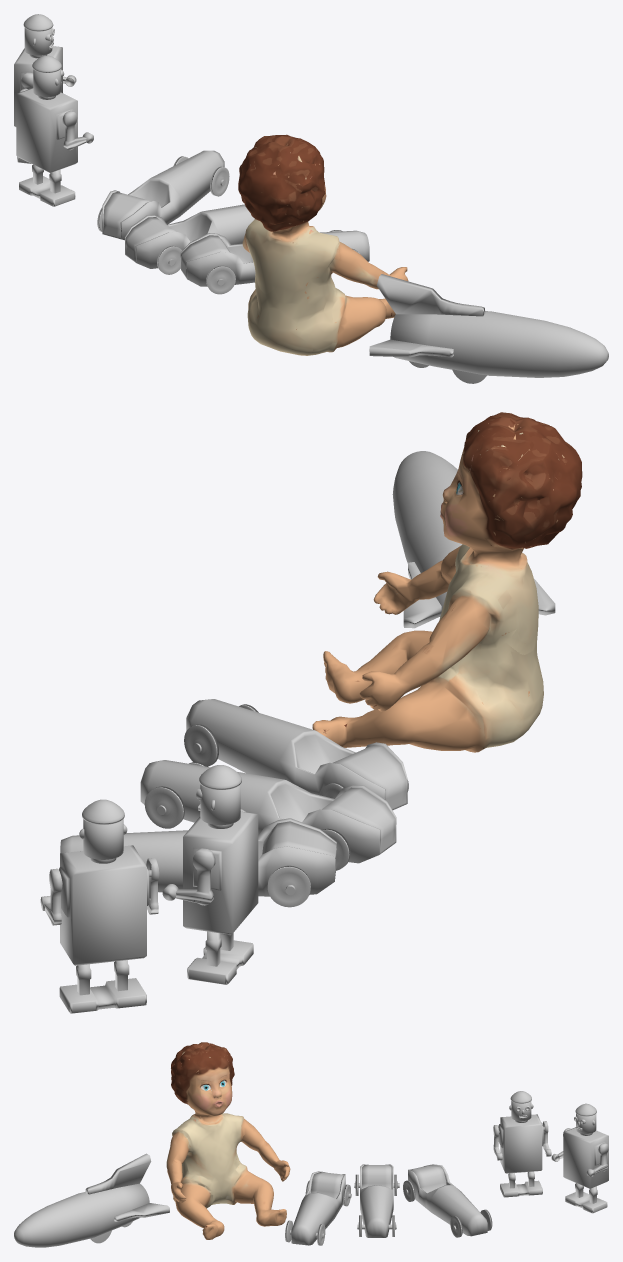
Rendered from juguetes.fbx.
3 views of the same model, one above another, from view 1: azimuth 30°, elevation 25°; view 2: azimuth 150°, elevation 25°; view 3: azimuth 270°, elevation 25° (orthographic). The views are drawn at different scales.
Parts seen in each view (by area): view 1: Icosphere, Nave, Cube.003, Cube.002, Cube, Cube.001, Cube.004, Cylinder, Cube.005, Cylinder.008, Cylinder.006, Cylinder.003 (+1 smaller); view 2: Icosphere, Cube.004, Cube.005, Cube, Cube.002, Cube.003, Nave, Cylinder.008, Cylinder, Cylinder.002, Cylinder.006, Cube.001 (+1 smaller); view 3: Icosphere, Nave, Cube.003, Cube.002, Cube.004, Cube.005, Cube, Cube.001, Cylinder.008, Cylinder, Cylinder.003, Cylinder.006 (+1 smaller).
Boxes of the visible parts, bbox=[...] form: Icosphere: bbox=[238, 134, 408, 355]; Nave: bbox=[390, 311, 608, 377]; Cube.003: bbox=[102, 150, 224, 240]; Cube.002: bbox=[16, 69, 77, 172]; Cube: bbox=[124, 204, 254, 268]; Cube.001: bbox=[369, 274, 485, 357]; Cube.004: bbox=[180, 230, 369, 286]; Cylinder: bbox=[19, 55, 93, 206]; Cube.005: bbox=[14, 28, 62, 126]; Cylinder.008: bbox=[17, 14, 76, 163]; Cylinder.006: bbox=[206, 230, 359, 294]; Cylinder.003: bbox=[97, 156, 229, 231]; Icosphere: bbox=[312, 412, 582, 752]; Cube.004: bbox=[186, 699, 407, 810]; Cube.005: bbox=[59, 819, 151, 965]; Cube: bbox=[140, 760, 396, 863]; Cube.002: bbox=[183, 784, 258, 934]; Cube.003: bbox=[60, 818, 336, 896]; Nave: bbox=[392, 451, 462, 611]; Cylinder.008: bbox=[40, 799, 159, 1013]; Cylinder: bbox=[162, 765, 253, 984]; Cylinder.002: bbox=[144, 762, 350, 870]; Cylinder.006: bbox=[184, 704, 408, 798]; Cube.001: bbox=[403, 562, 555, 628]; Icosphere: bbox=[166, 1042, 290, 1239]; Nave: bbox=[14, 1183, 149, 1247]; Cube.003: bbox=[408, 1164, 487, 1236]; Cube.002: bbox=[498, 1101, 544, 1173]; Cube.004: bbox=[291, 1171, 345, 1245]; Cube.005: bbox=[563, 1113, 608, 1188]; Cube: bbox=[360, 1164, 393, 1237]; Cube.001: bbox=[85, 1153, 169, 1221]; Cylinder.008: bbox=[551, 1103, 608, 1213]; Cylinder: bbox=[493, 1091, 551, 1197]; Cylinder.003: bbox=[403, 1180, 492, 1237]; Cylinder.006: bbox=[285, 1180, 350, 1245].
Size of the model in its own units: 480 by 400 by 1402.
